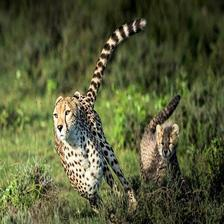Cheetah: (50, 17, 153, 214), (137, 95, 186, 196)
